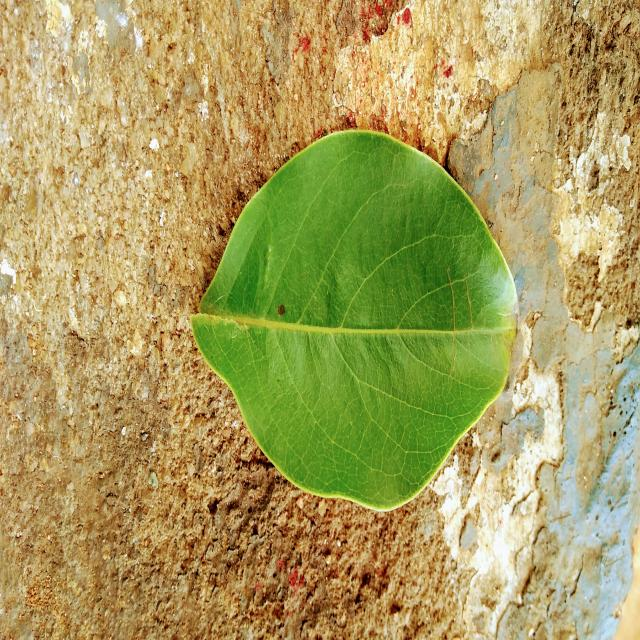sampige: (191, 131, 518, 511)
